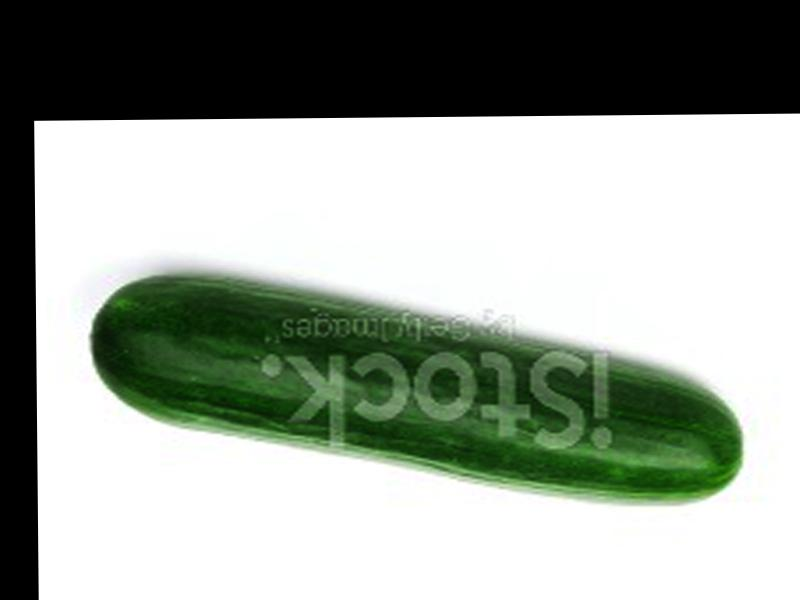Cucumber: (88, 272, 745, 508)
